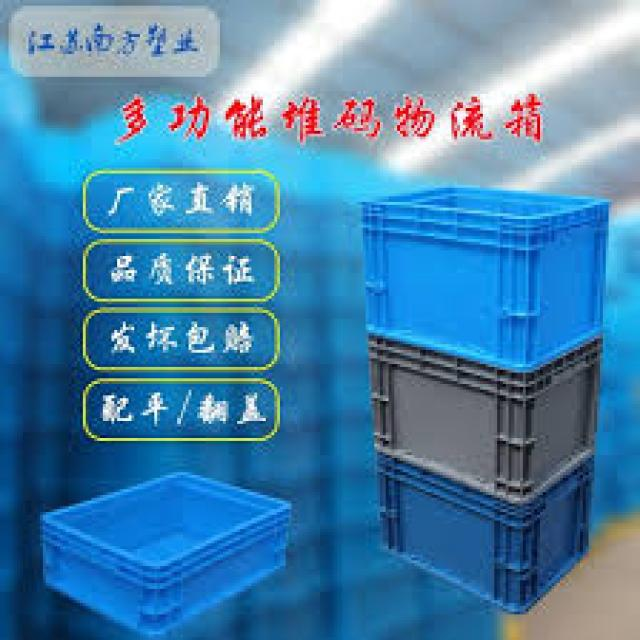basket: (344, 181, 612, 616), (29, 454, 308, 640)
